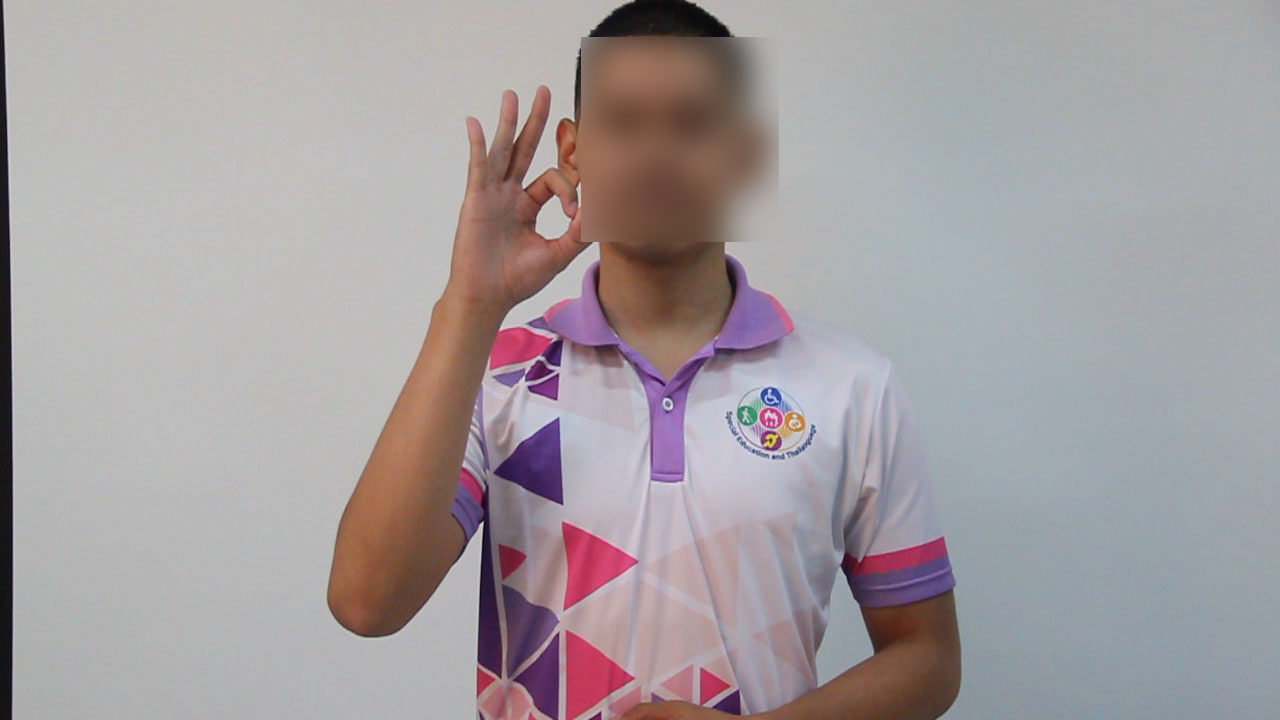for: (418, 75, 603, 334)
